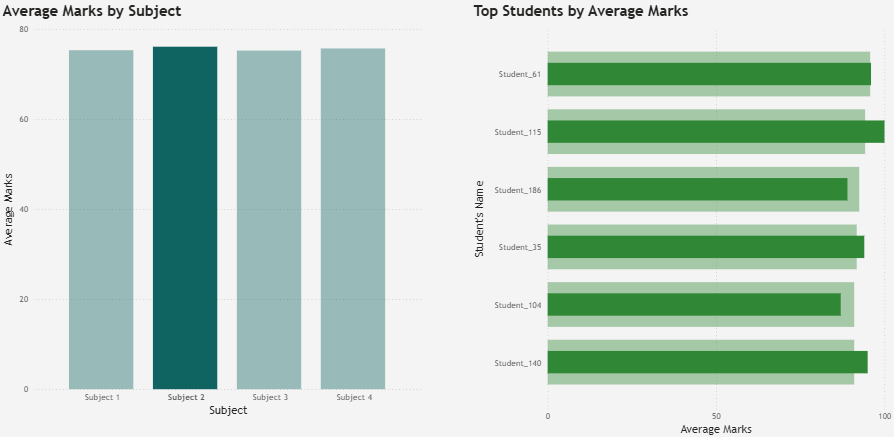

Layout of this report page (visuals, bound fields, positions):
{"tool":"powerbi","page":{"name":"Perf Analysis","canvas":[1280,720],"ordinal":1},"visuals":[{"type":"clusteredBarChart","title":"Top Students by Average Marks","fields":{"Category":["dim_student.Student's Name"],"Y":["_AllMeasures.Average Marks"]},"box":[672.9,95.7,607.1,624.3],"z":1000},{"type":"clusteredColumnChart","fields":{"Y":["_AllMeasures.Average Marks"],"Category":["fact_marks.Subject"]},"box":[0,95.7,608.6,597.1],"z":2000}]}

Visuals, with their boxes on the page's 1280x720 design canvas (x1, y1, x2, y2). These are canvas units, not pixel positions in the 894x437 screenshot, which may show the page scaled, cropped or inside an application window:
"Top Students by Average Marks" clusteredBarChart: box(673, 96, 1280, 720)
clusteredColumnChart - _AllMeasures.Average Marks x fact_marks.Subject: box(0, 96, 609, 693)
